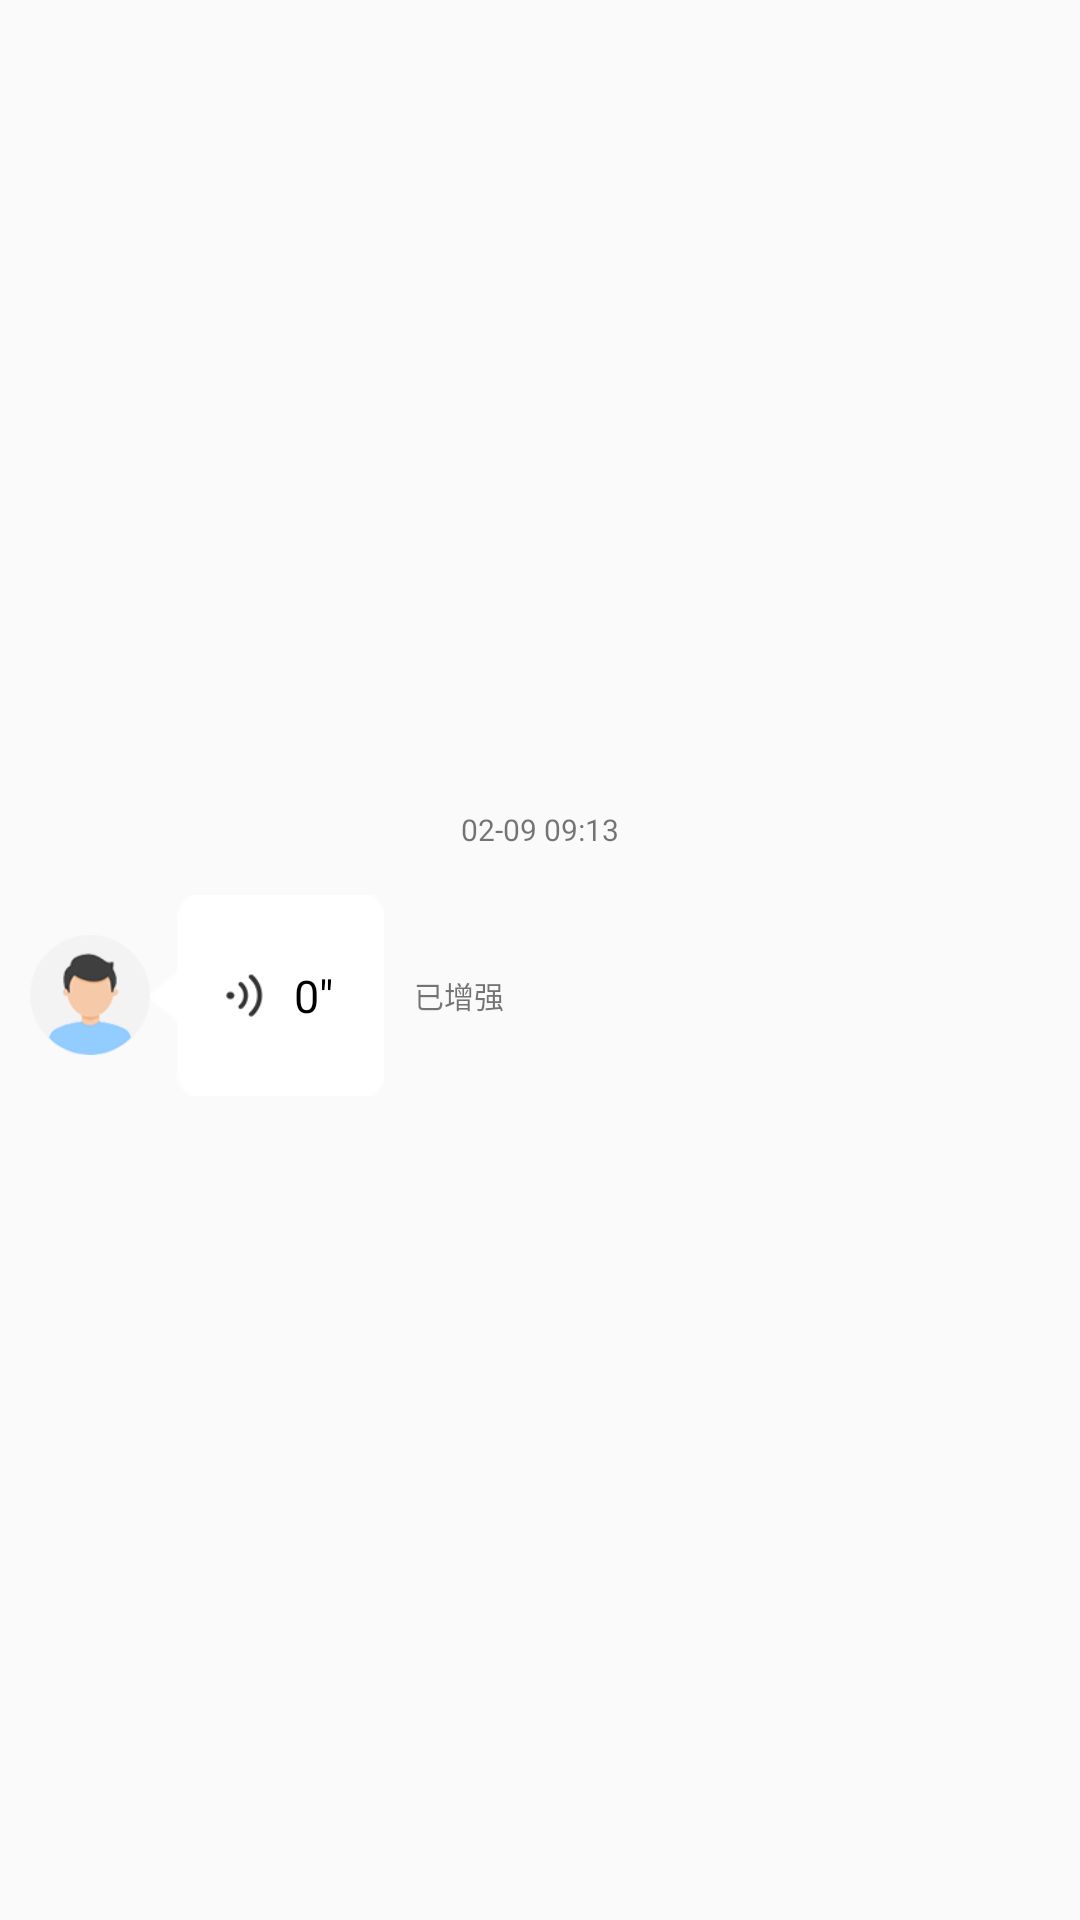

Point at icon controls on the screen. Image size 1080x1920, points as point (x, y).
anim voice left play: point (244, 995)
